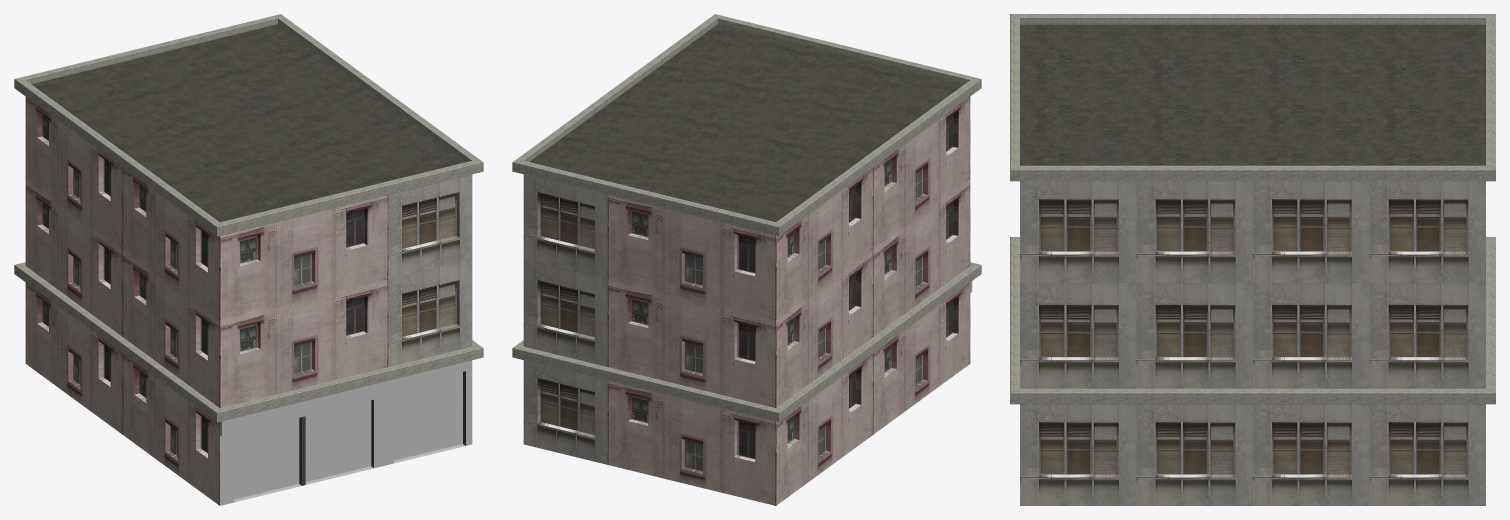
Rendered from CT_door_018.fbx.
3 renders of one model, left to right at view 1: azimuth 30°, elevation 25°; view 2: azimuth 150°, elevation 25°; view 3: azimuth 270°, elevation 25°, orthographic. The views are drawn at different scales.
Parts seen in each view (by area): view 1: CT_door_018; view 2: CT_door_018; view 3: CT_door_018.
Boxes of the visible parts, x1,y1,x2,y2 form: CT_door_018: (14,14,483,505); CT_door_018: (512,14,981,505); CT_door_018: (1010,14,1495,505).
Size of the model in its own units: 811 by 825 by 1067.
